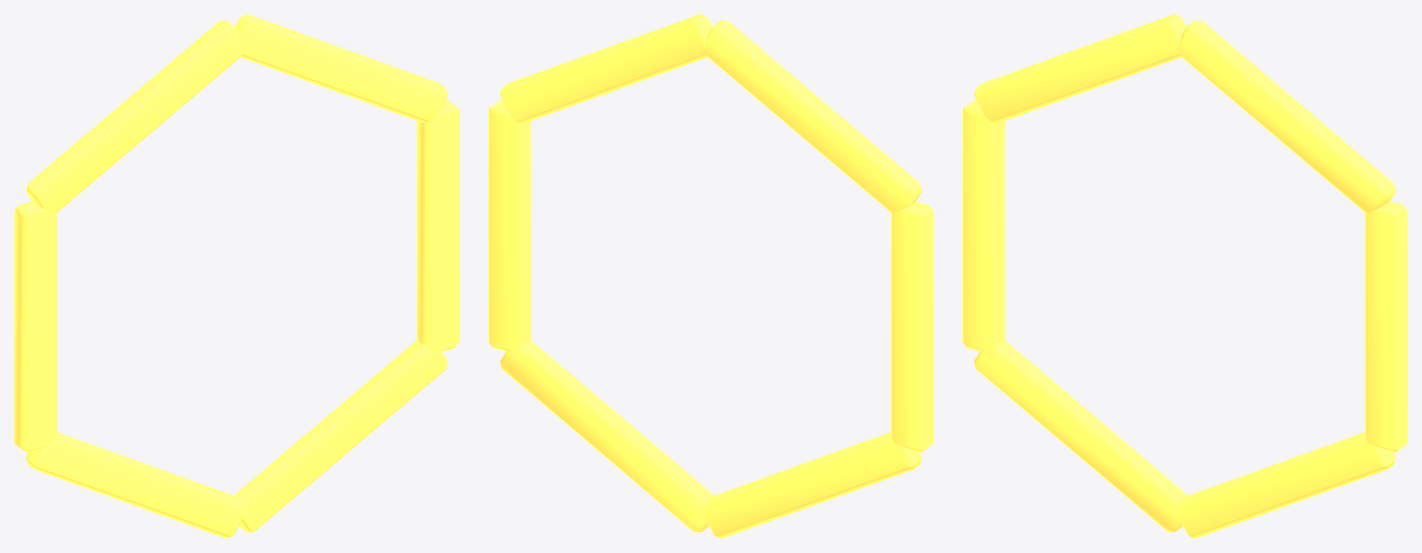
Rendered from fx_ring_hex.glb.
The picture shows the model from 3 angles, left to right: view 1: azimuth 30°, elevation 25°; view 2: azimuth 150°, elevation 25°; view 3: azimuth 330°, elevation 25°; orthographic projection.
Visible parts, largest first — view 1: fx_ring_hex; view 2: fx_ring_hex; view 3: fx_ring_hex.
Part boxes in pixels (x1,y1,x2,y2): fx_ring_hex: [14, 14, 459, 538]; fx_ring_hex: [488, 14, 933, 538]; fx_ring_hex: [962, 14, 1407, 538].
Size of the model in its own units: 0.98 by 1.1 by 0.05.
1 material, 1 textured.
